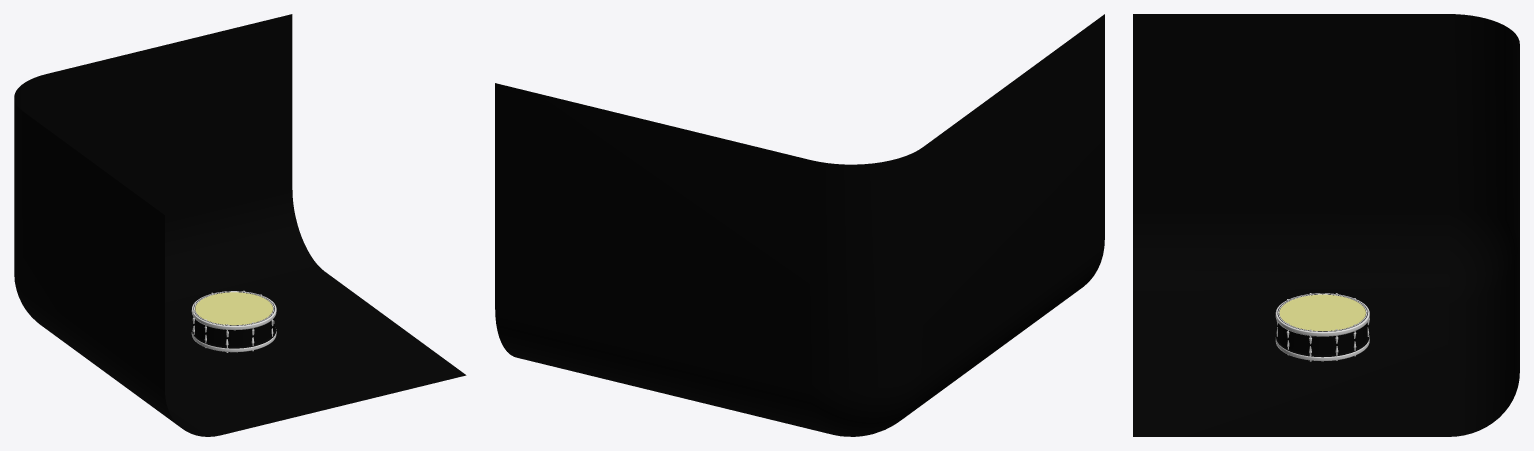
File: Drums.fbx
3 renders of one model, left to right at view 1: azimuth 30°, elevation 25°; view 2: azimuth 150°, elevation 25°; view 3: azimuth 270°, elevation 25°, orthographic. The views are drawn at different scales.
Visible parts, largest first — view 1: Plane, Cylinder; view 2: Plane; view 3: Plane, Cylinder.
Part boxes in pixels (bbox=[...]): Plane: bbox=[14, 14, 466, 436]; Cylinder: bbox=[191, 291, 276, 352]; Plane: bbox=[495, 14, 1104, 436]; Plane: bbox=[1133, 14, 1519, 436]; Cylinder: bbox=[1275, 293, 1369, 361].
Size of the model in its own units: 1225 by 907 by 1225.
